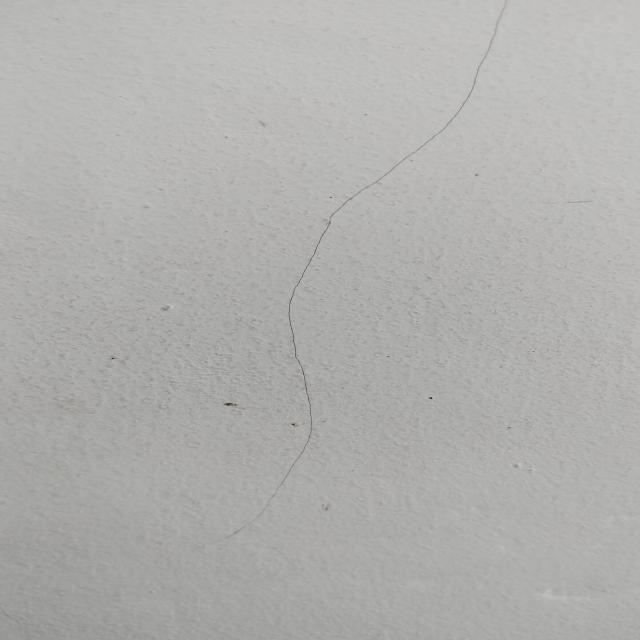Crack: (204, 0, 516, 556)
